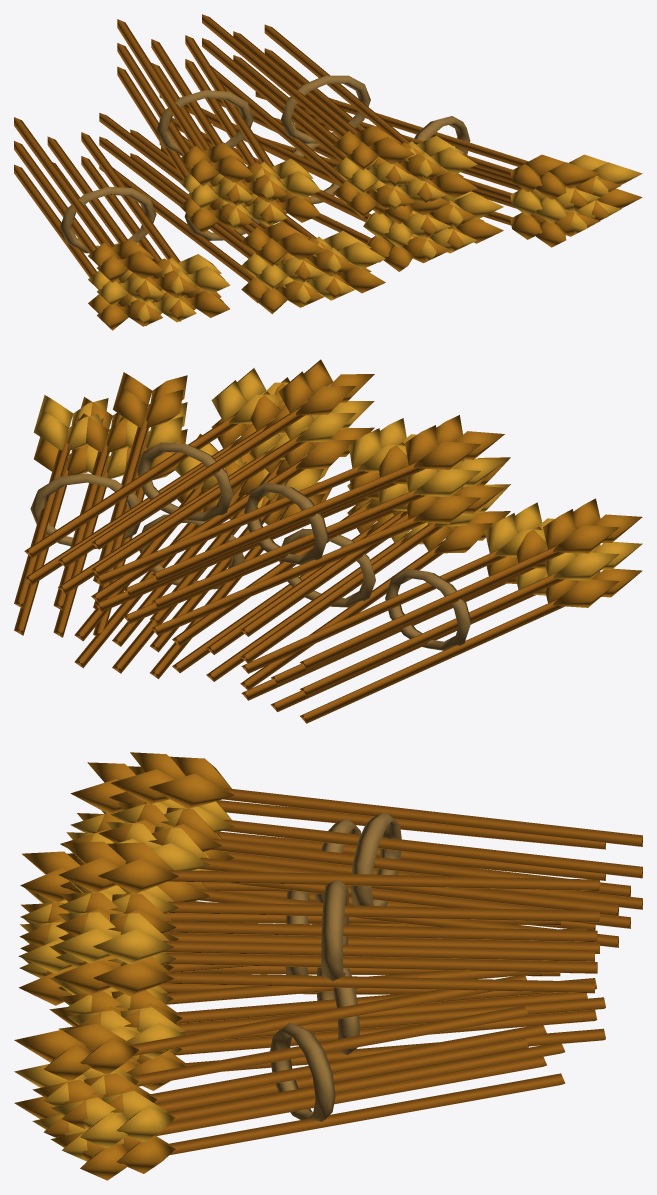
File: pile-wheat-6.obj
3 renders of one model, top to bottom at view 1: azimuth 30°, elevation 25°; view 2: azimuth 150°, elevation 25°; view 3: azimuth 270°, elevation 25°, orthographic. The views are drawn at different scales.
Parts seen in each view (by area): view 1: pile-wheat-6; view 2: pile-wheat-6; view 3: pile-wheat-6.
Boxes of the visible parts, box(x1,y1,x2,y2) form: pile-wheat-6: box(14, 14, 642, 330); pile-wheat-6: box(14, 359, 642, 723); pile-wheat-6: box(14, 752, 642, 1180).
Size of the model in its own units: 0.7706 by 0.1898 by 0.5968.
1 material, 1 textured.
